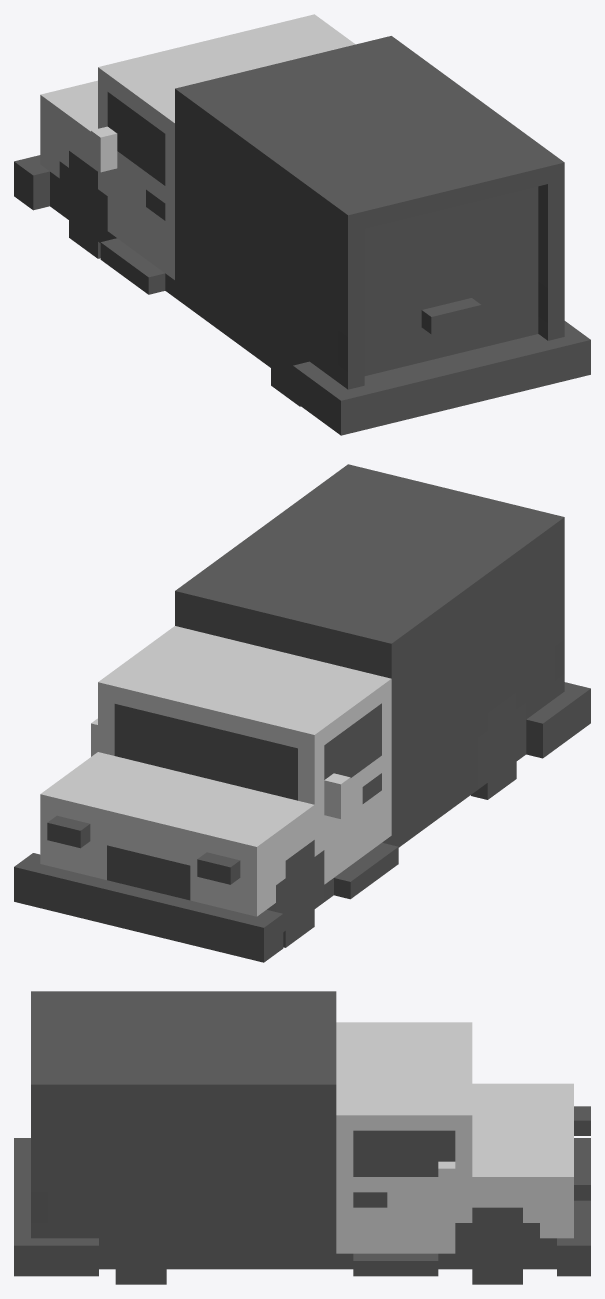
File: veh_truck3.obj
The picture shows the model from 3 angles, top to bottom: view 1: azimuth 30°, elevation 25°; view 2: azimuth 150°, elevation 25°; view 3: azimuth 270°, elevation 25°; orthographic projection. The views are drawn at different scales.
Size of the model in its own units: 15 by 13 by 34.
